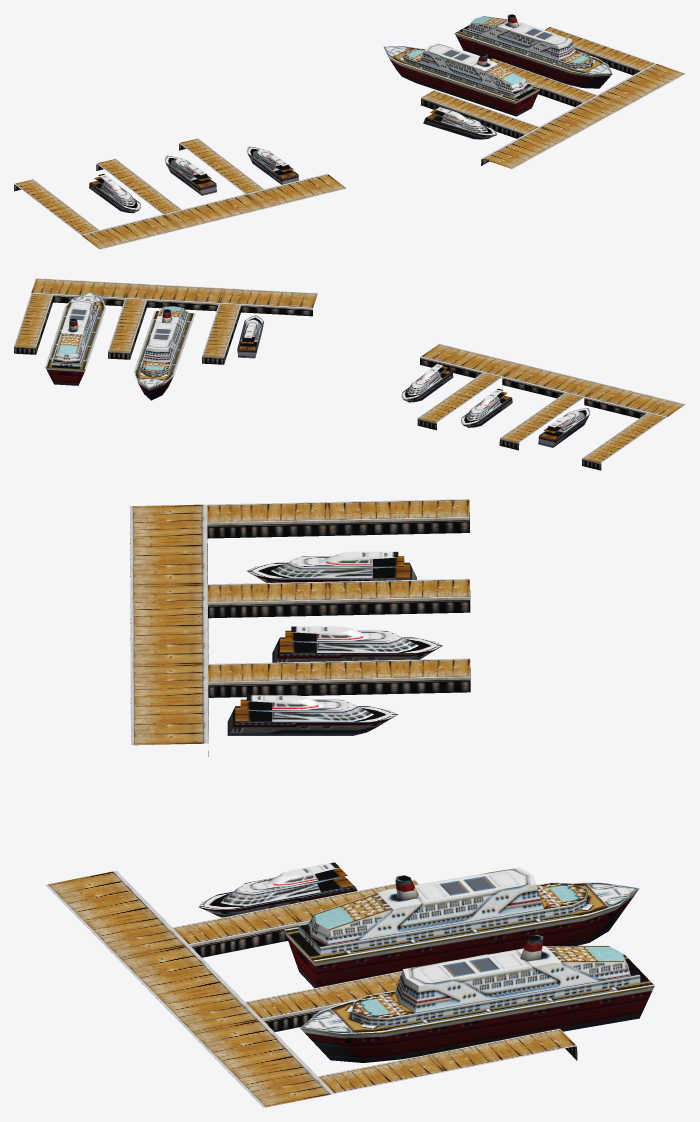
File: bridge_ship_end.fbx
3 views of the same model, one above another, from view 1: azimuth 30°, elevation 25°; view 2: azimuth 150°, elevation 25°; view 3: azimuth 270°, elevation 25° (orthographic). The views are drawn at different scales.
Parts seen in each view (by area): view 1: bridge_ship_end; view 2: bridge_ship_end; view 3: bridge_ship_end.
Part boxes in pixels (x1=…): bridge_ship_end: x1=14, y1=14, x2=685, y2=249; bridge_ship_end: x1=14, y1=278, x2=685, y2=470; bridge_ship_end: x1=45, y1=499, x2=654, y2=1107.
Bounding box in the file's own units: 11867 × 802 × 5078.
